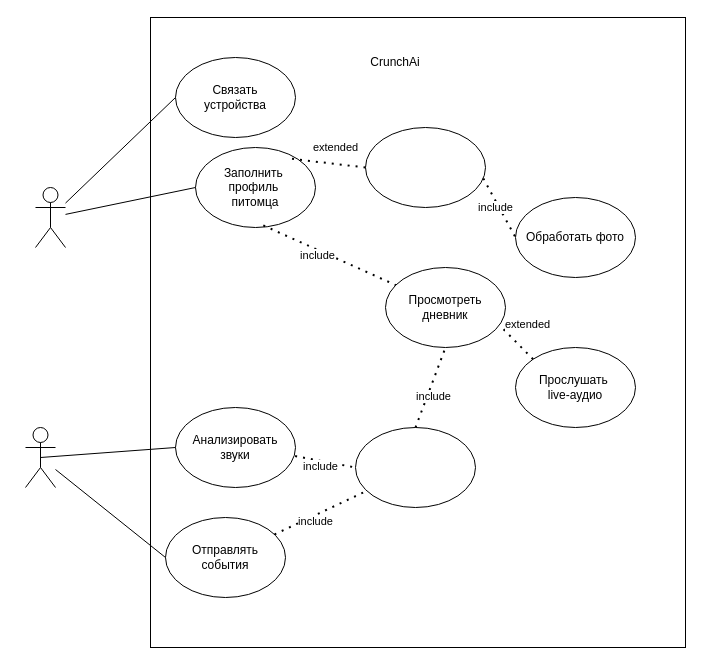
Image size: 703x665. Some labels were removed from this diagram. The centre of each missing label's shape, as x and y in pixels:
"Владелец" belongs at point (50, 217).
"Собрать отчёт" belongs at point (415, 467).
"Станция" belongs at point (40, 457).
"Сфотографировать миску" belongs at point (425, 167).
